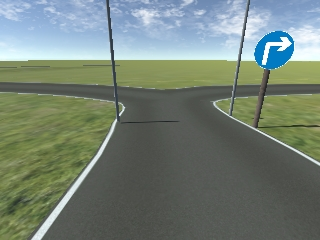right: (254, 31, 294, 69)
